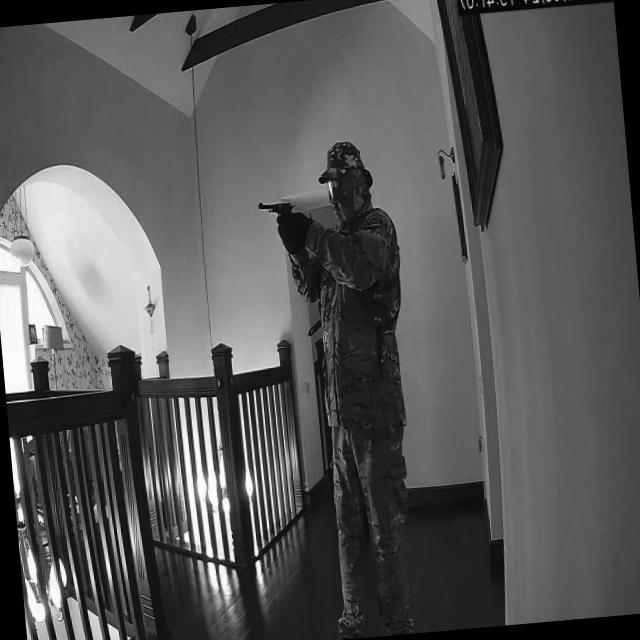gun: (255, 195, 298, 235)
person with a gun: (249, 135, 435, 640)
